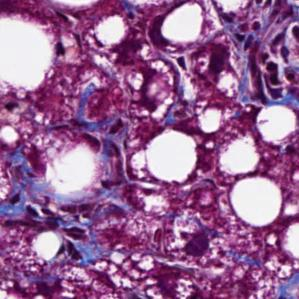inflammation: (223, 16, 299, 98), (19, 199, 91, 242), (165, 222, 213, 264)
